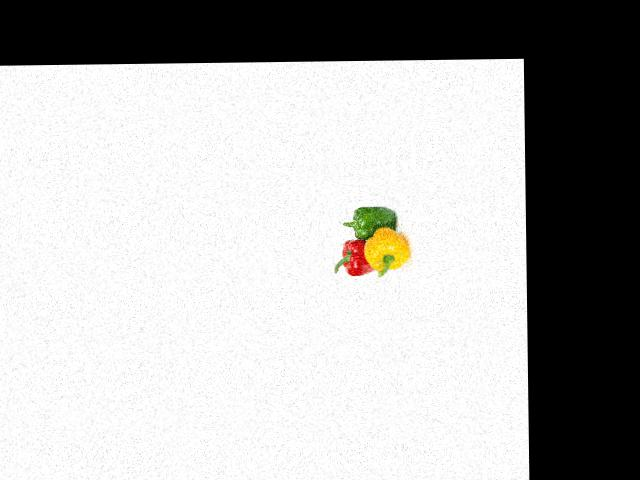bell_pepper: (329, 233, 380, 282)
